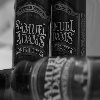beer: (8, 1, 52, 70)
